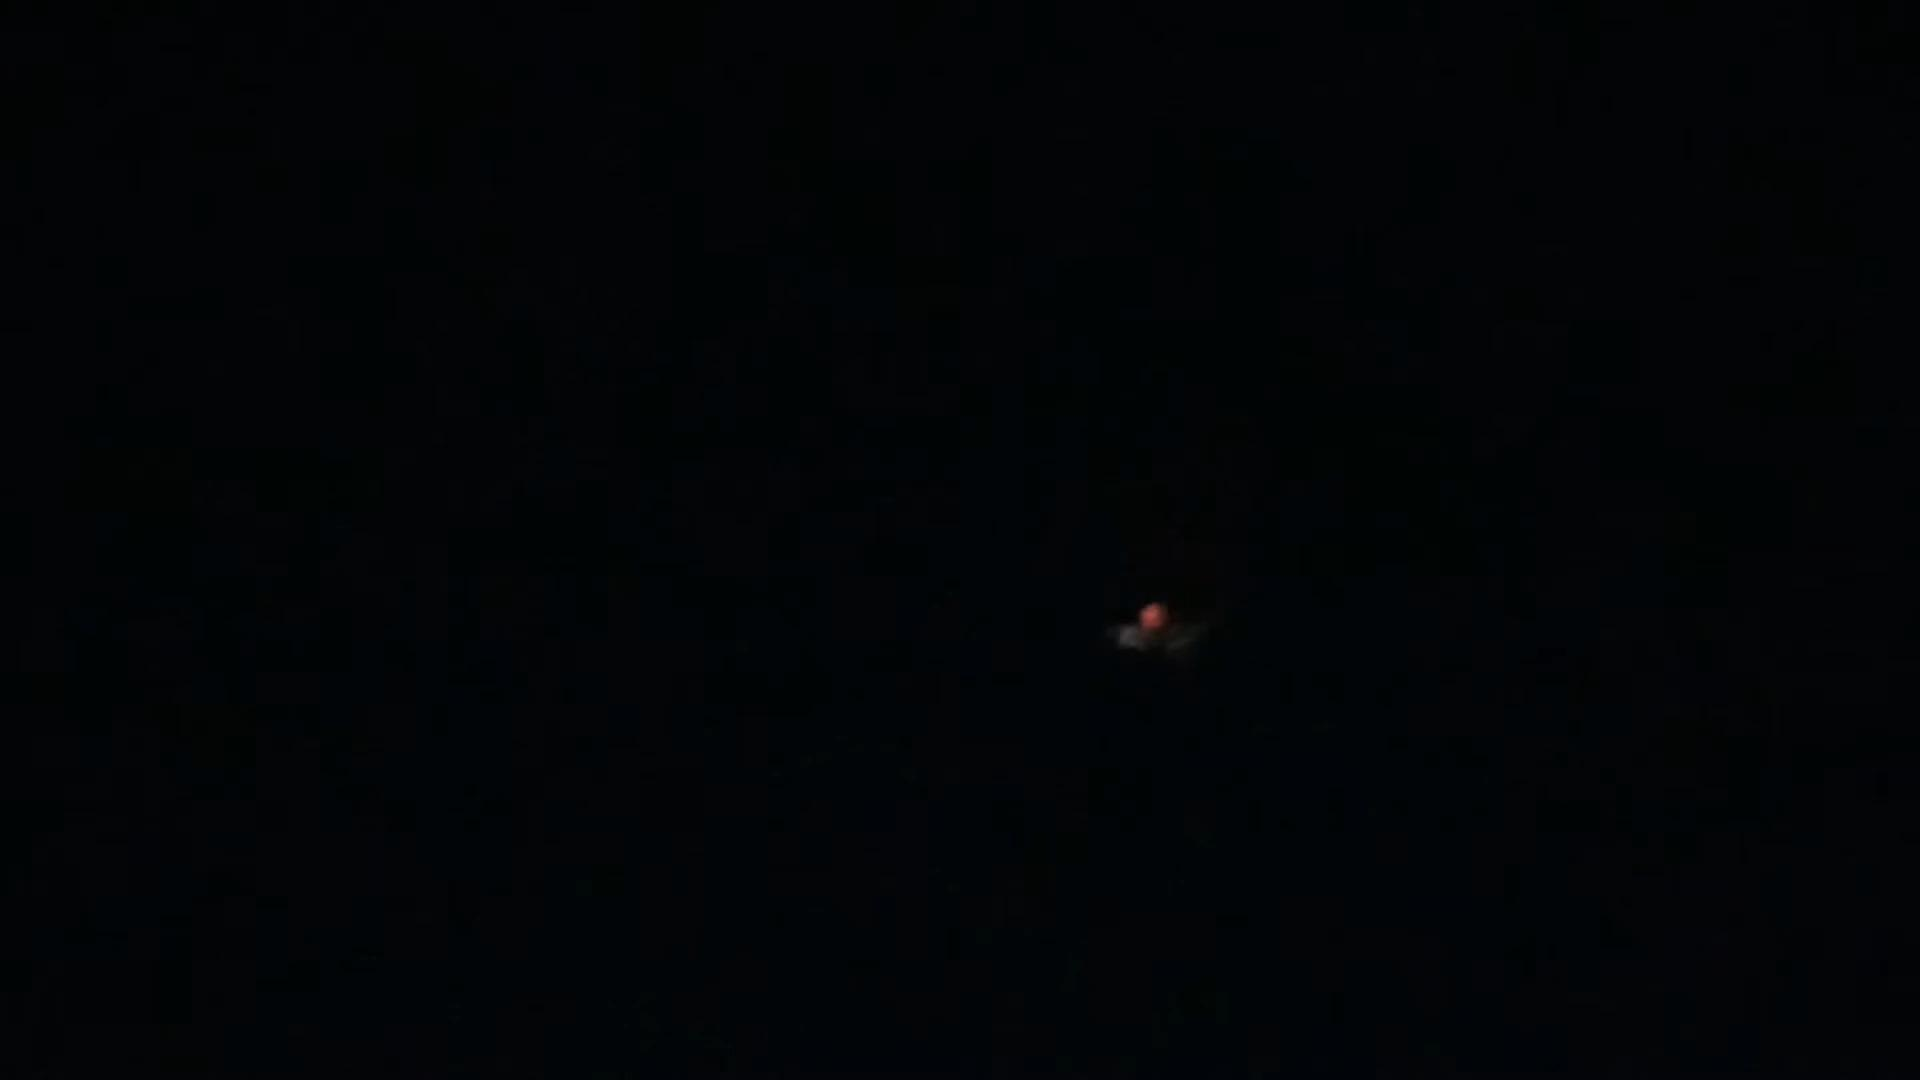Plane: (1050, 578, 1291, 684)
